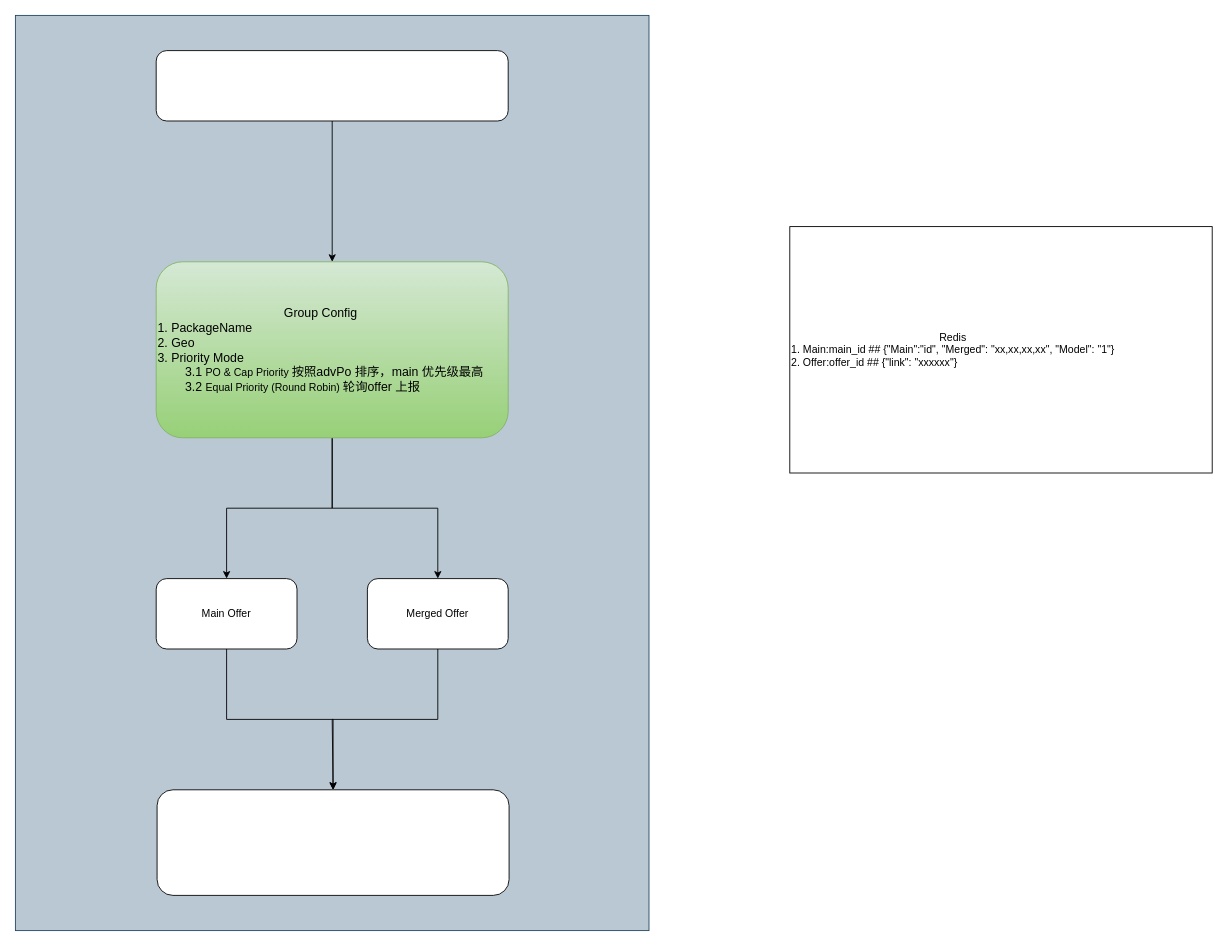
Image size: 1228x946. Some labels were removed from this diagram. The shapes that lost their labels are listed below. From the top down, each one's box as (x1, y1, x2, y2) in pixels, then its label:
(155, 50, 508, 121): Offer List
(156, 789, 509, 895): Relation 1. Main Relation 1.1 Cap: Main All + (Merged Relation ∩ Main Relation)
